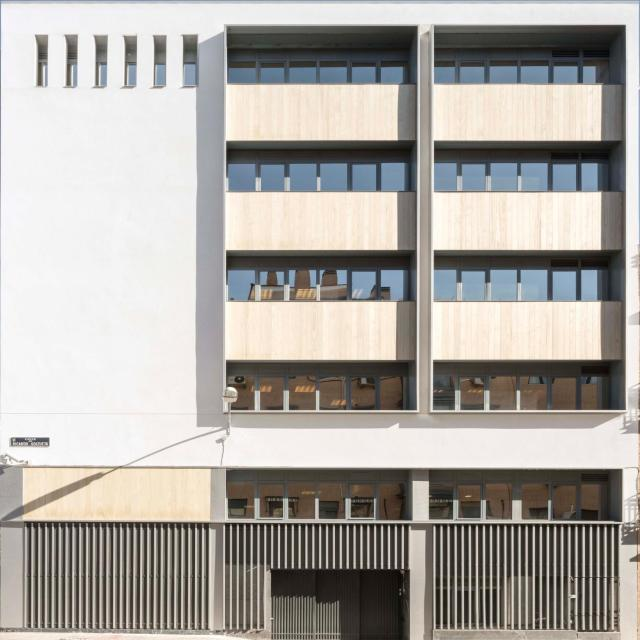door: (357, 570, 403, 638)
wall: (1, 1, 639, 639)
windows: (228, 369, 408, 411), (430, 259, 610, 301), (227, 479, 406, 521), (430, 478, 609, 520), (431, 368, 610, 410), (228, 260, 406, 302), (226, 160, 408, 192), (434, 160, 610, 191), (435, 58, 611, 84), (227, 60, 408, 85), (183, 62, 198, 86), (97, 62, 109, 88), (154, 62, 166, 86), (39, 60, 49, 86), (126, 62, 136, 86), (68, 61, 77, 85)
